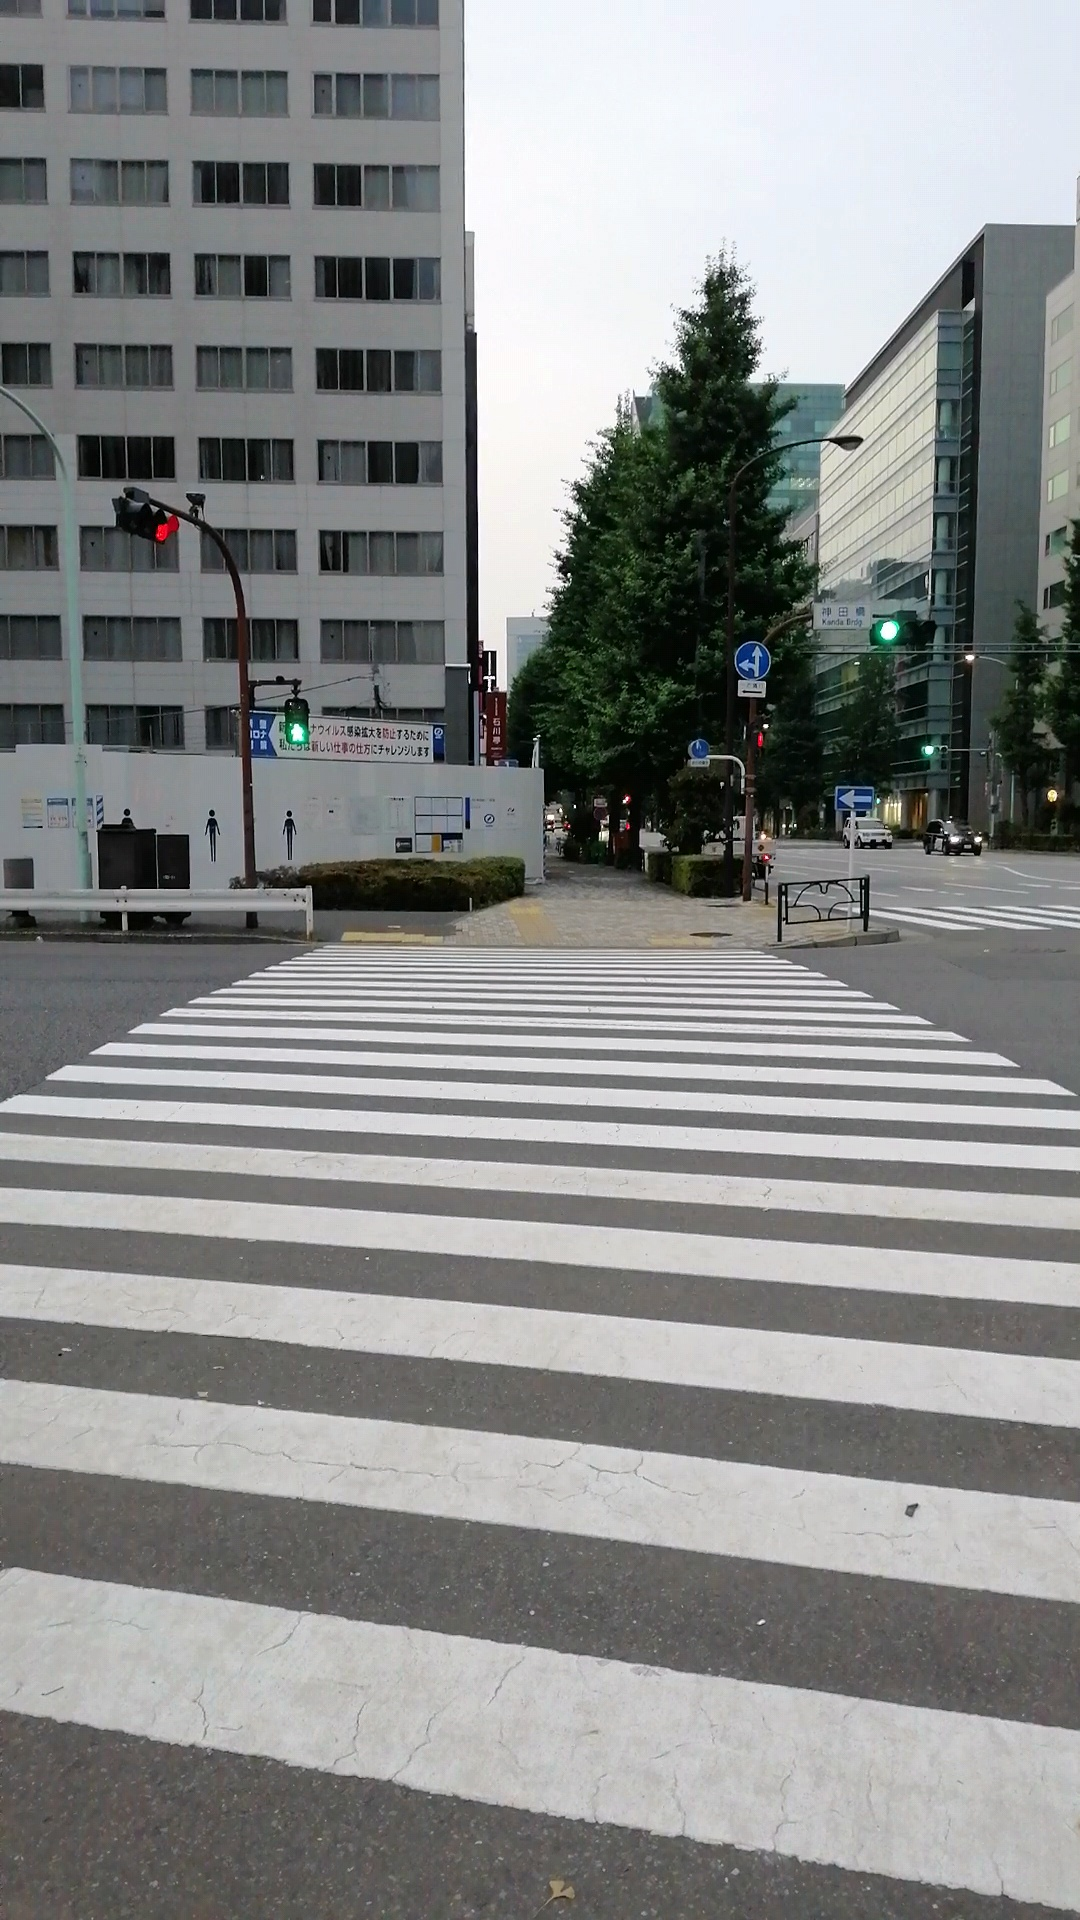green: (280, 696, 313, 745)
